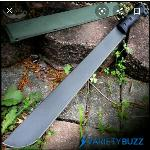Golok: (2, 2, 150, 146)
